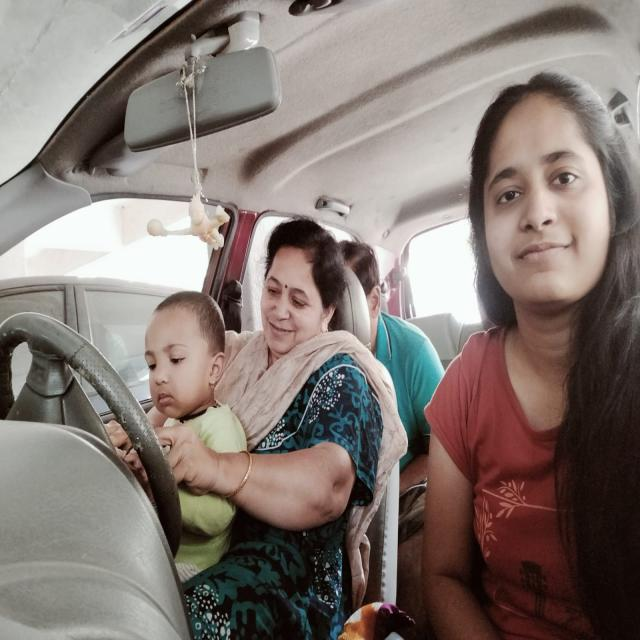child: (143, 287, 233, 418)
person: (470, 76, 620, 314), (260, 222, 337, 351), (341, 232, 398, 347)
